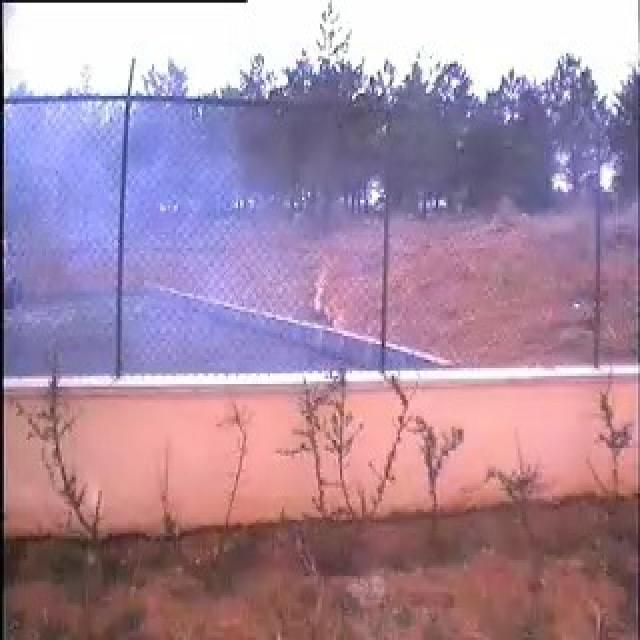smoke: (42, 112, 278, 354)
